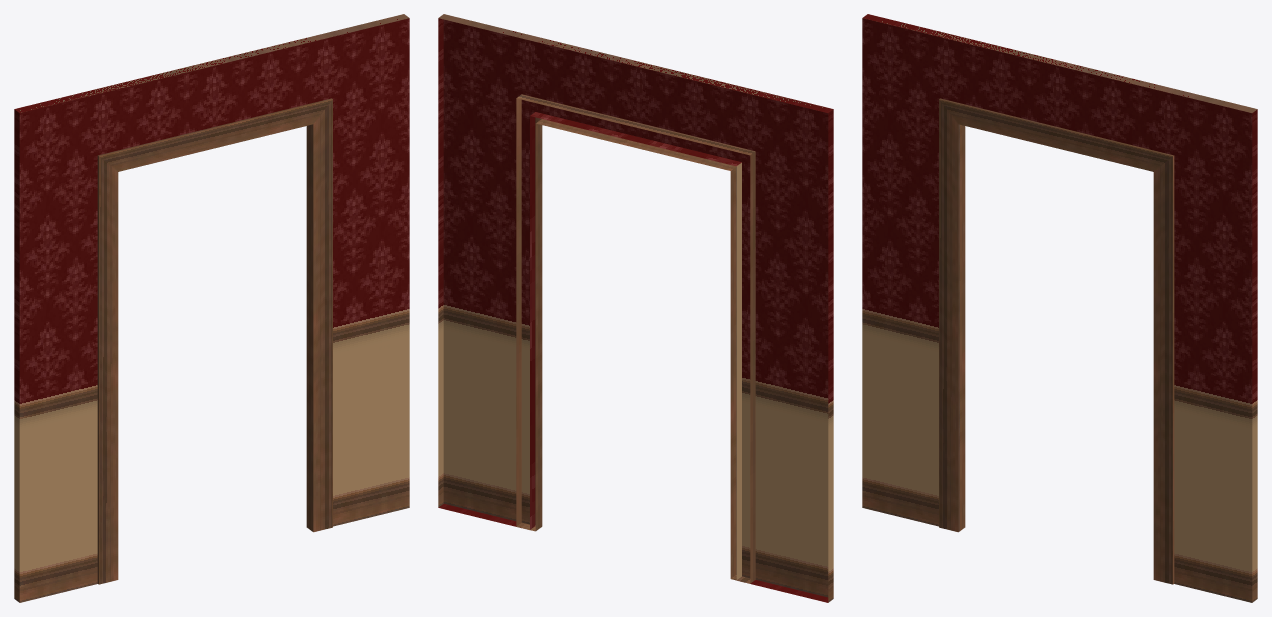
File: doorway1.glb
The picture shows the model from 3 angles, left to right: view 1: azimuth 30°, elevation 25°; view 2: azimuth 150°, elevation 25°; view 3: azimuth 330°, elevation 25°; orthographic projection.
Visible parts, largest first — view 1: doorway1; view 2: doorway1; view 3: doorway1.
Part boxes in pixels (x1,y1,x2,y2): doorway1: (14, 14, 409, 602); doorway1: (438, 14, 833, 602); doorway1: (862, 14, 1257, 602).
Bounding box in the file's own units: 2 × 2.4 × 0.06.
Materials: 1 (1 with a texture image).
